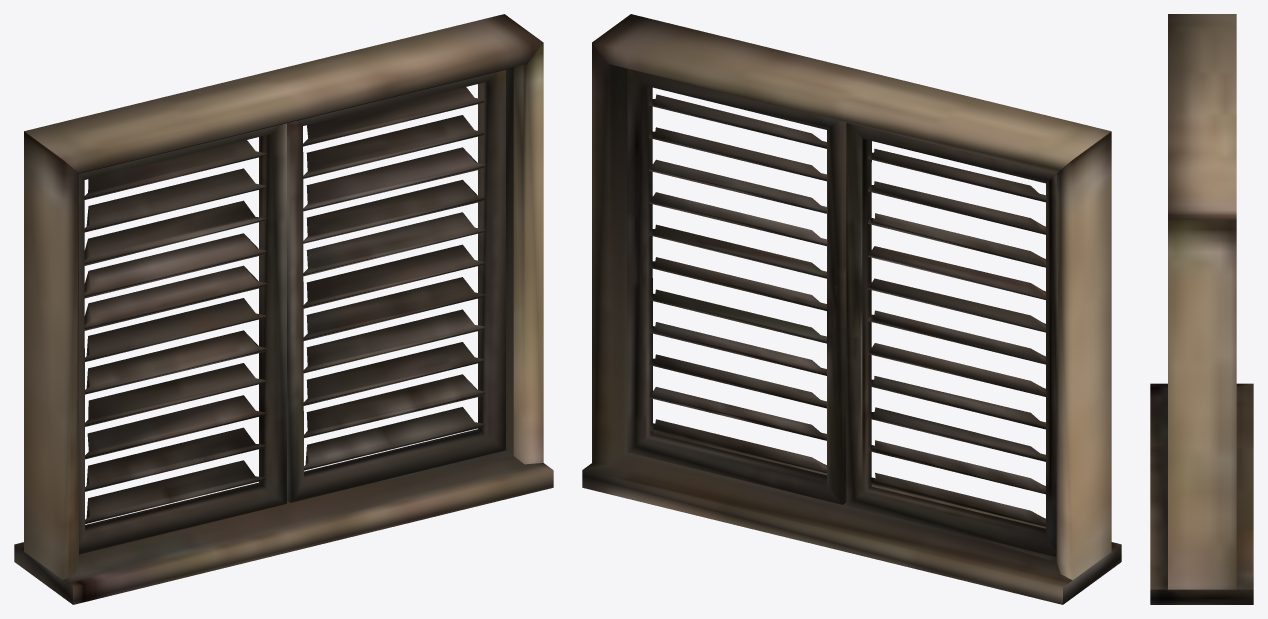
Rendered from WindowFrameWatlas.fbx.
3 renders of one model, left to right at view 1: azimuth 30°, elevation 25°; view 2: azimuth 150°, elevation 25°; view 3: azimuth 270°, elevation 25°, orthographic. The views are drawn at different scales.
Visible parts, largest first — view 1: WoodenWindowLeft; view 2: WoodenWindowLeft; view 3: WoodenWindowLeft.
Part boxes in pixels (x1,y1,x2,y2): WoodenWindowLeft: [14, 14, 553, 604]; WoodenWindowLeft: [582, 14, 1121, 604]; WoodenWindowLeft: [1150, 14, 1253, 604].
Bounding box in the file's own units: 142 × 124 × 30.19.
Materials: 1 (1 with a texture image).
